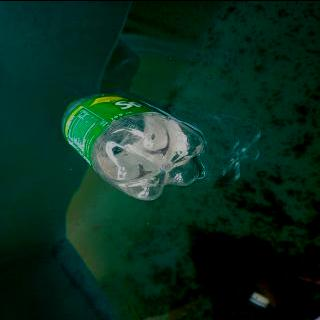bottle: (56, 91, 208, 203)
